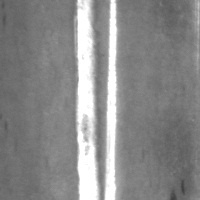scratches: (72, 0, 108, 199), (102, 1, 119, 199)
